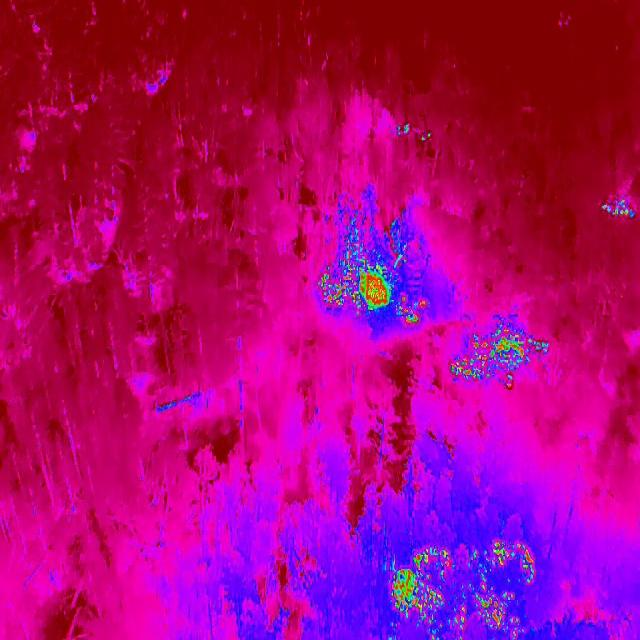fire: (374, 530, 556, 640), (317, 209, 430, 343), (442, 308, 558, 399), (597, 193, 640, 223), (392, 118, 436, 147)
